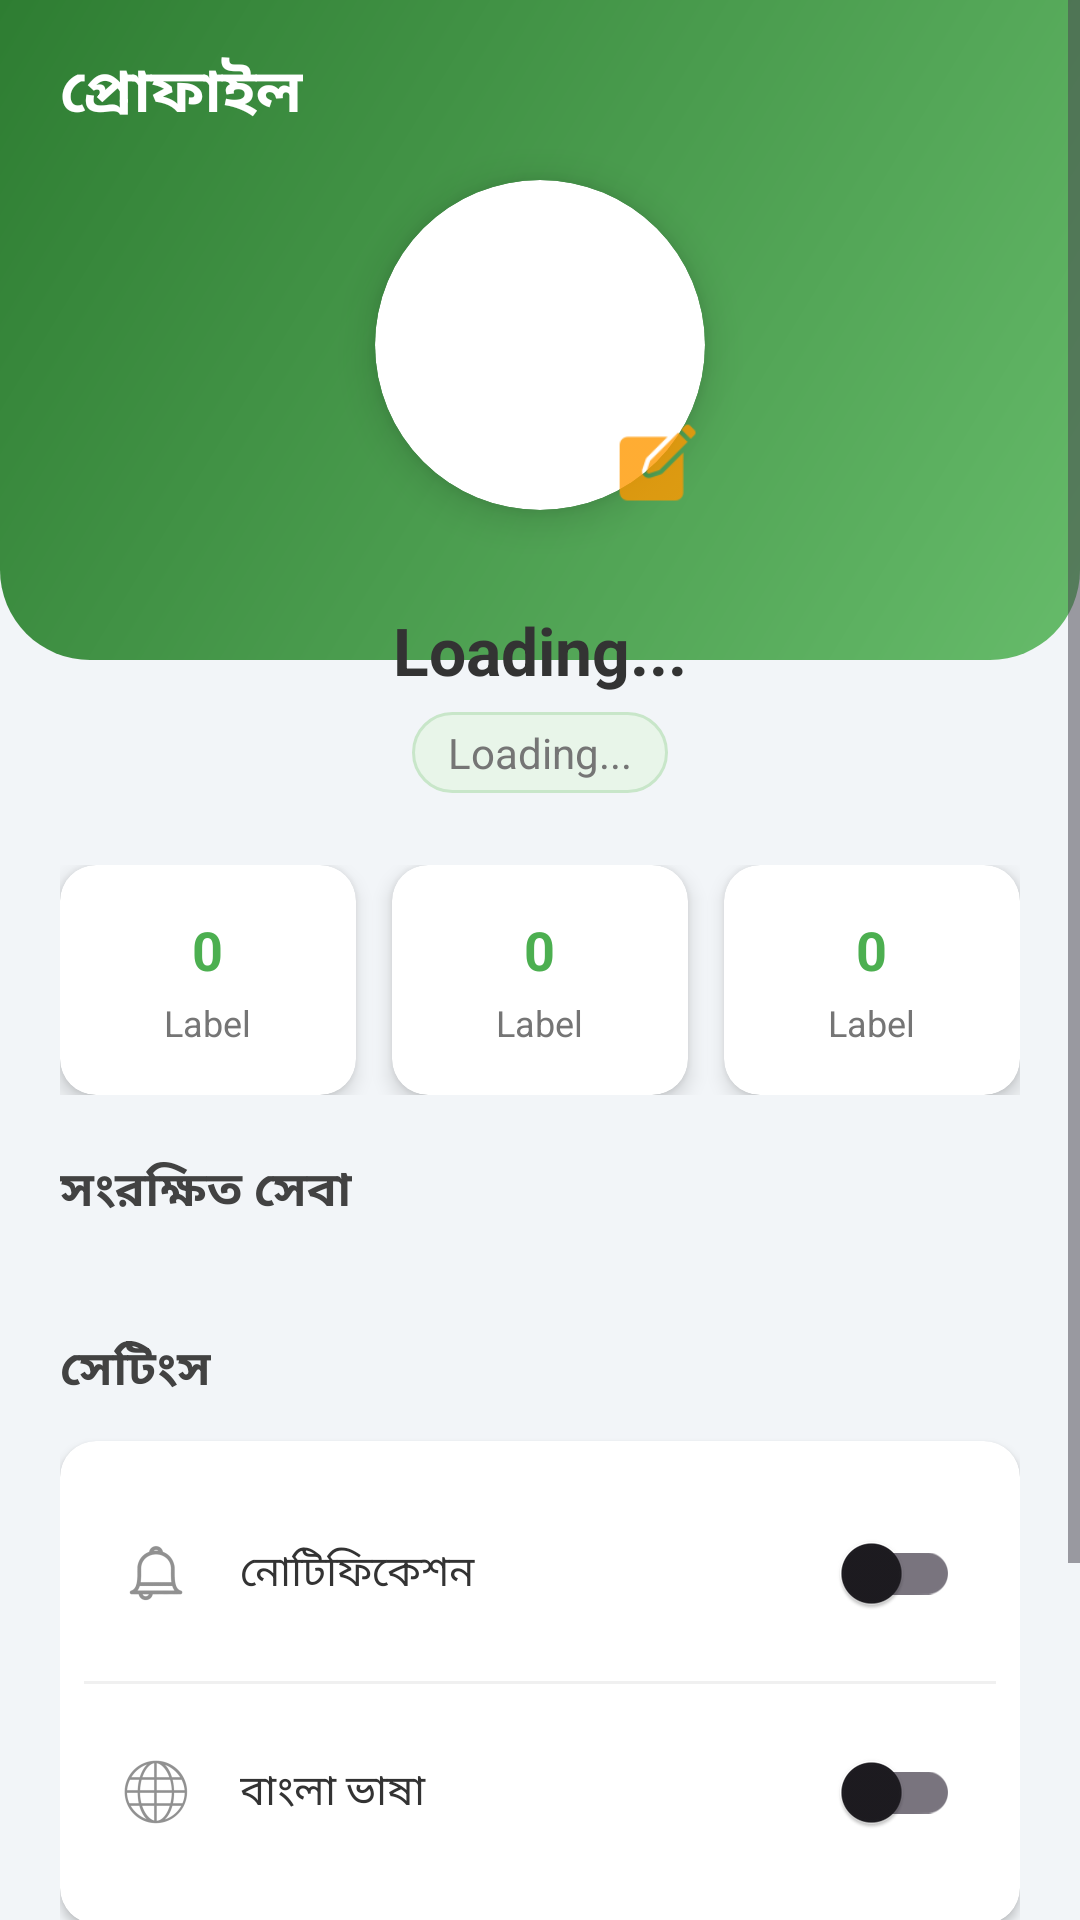

Icon click points for this 1080px×1920px phone screenshot, format [x,y]:
edit: [657,462]
language: [155,1791]
notifications: [156,1573]
